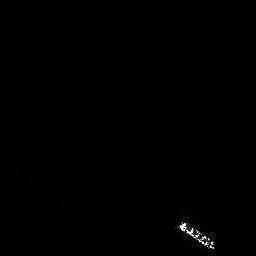ship: (176, 211, 223, 254)
